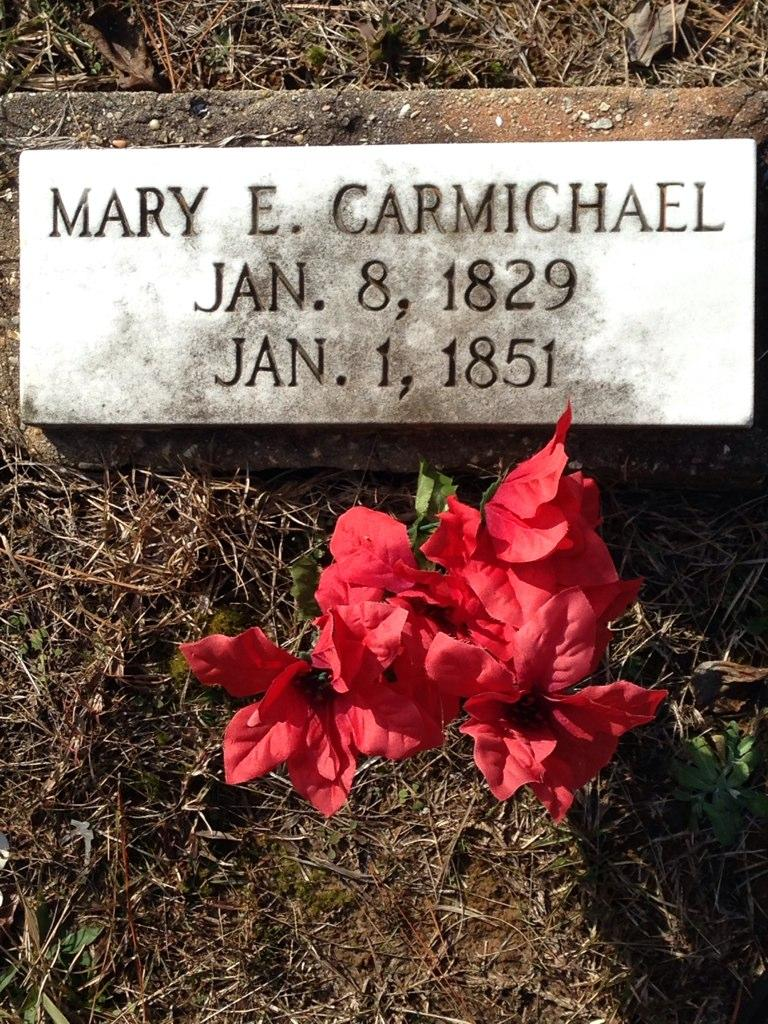flat: (0, 73, 768, 503)
